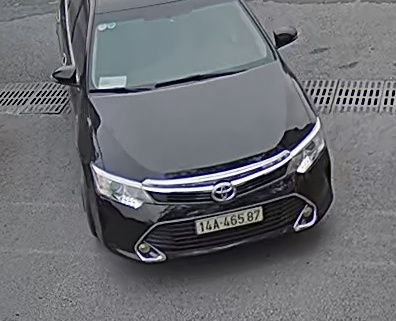vehicle plate: (193, 205, 265, 236)
